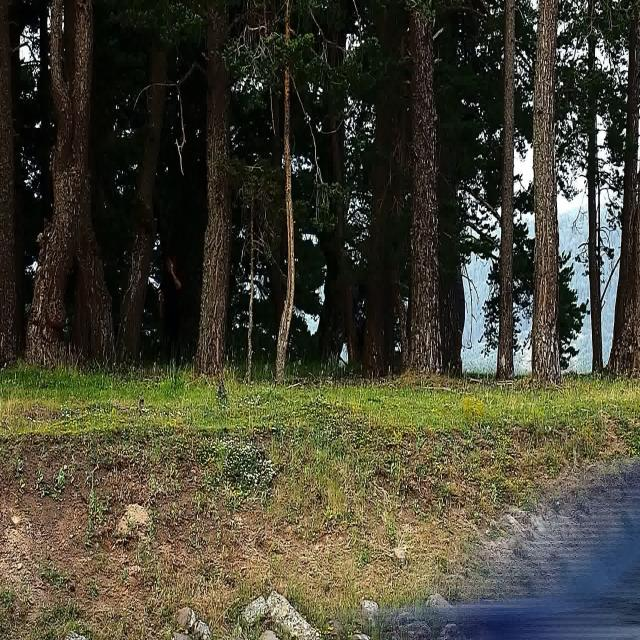Car: (436, 461, 640, 640)
